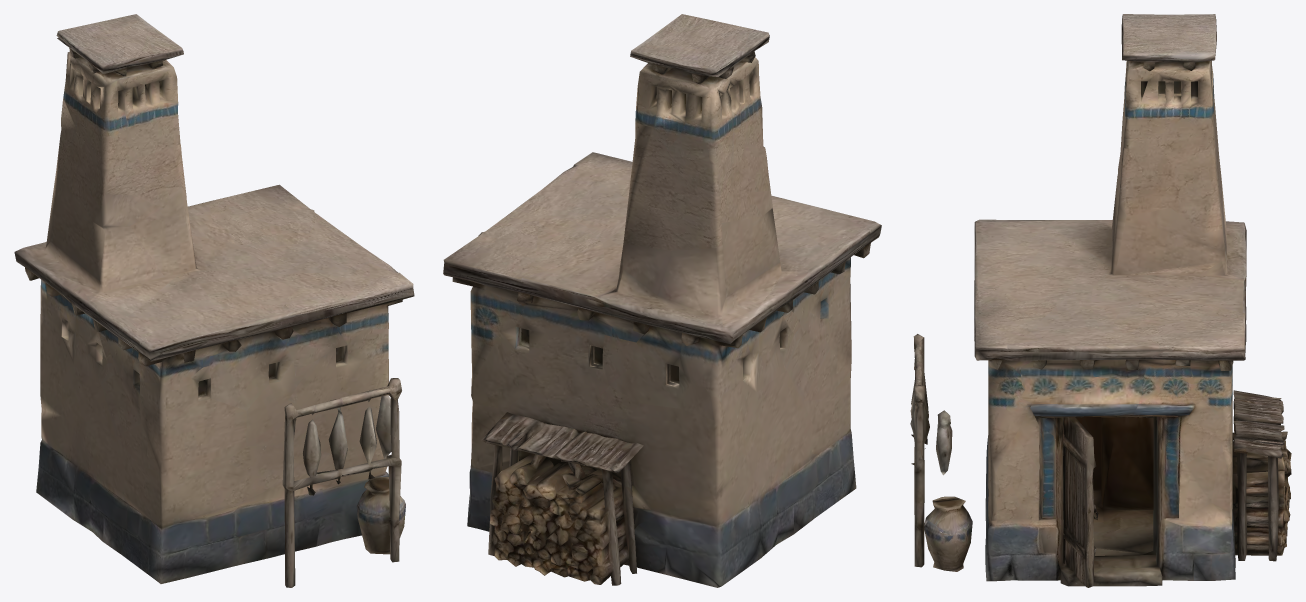
File: smokehouse.glb
3 renders of one model, left to right at view 1: azimuth 30°, elevation 25°; view 2: azimuth 150°, elevation 25°; view 3: azimuth 270°, elevation 25°, orthographic. The views are drawn at different scales.
Visible parts, largest first — view 1: tripo_node_9afdb89c-ac36-4797-9cf4-8d9479f07edc; view 2: tripo_node_9afdb89c-ac36-4797-9cf4-8d9479f07edc; view 3: tripo_node_9afdb89c-ac36-4797-9cf4-8d9479f07edc.
Part boxes in pixels (x1=…): tripo_node_9afdb89c-ac36-4797-9cf4-8d9479f07edc: x1=14, y1=14, x2=414, y2=587; tripo_node_9afdb89c-ac36-4797-9cf4-8d9479f07edc: x1=443, y1=14, x2=881, y2=587; tripo_node_9afdb89c-ac36-4797-9cf4-8d9479f07edc: x1=910, y1=14, x2=1291, y2=587.
Size of the model in its own units: 0.629 by 0.9806 by 0.7313.
1 material, 1 textured.
